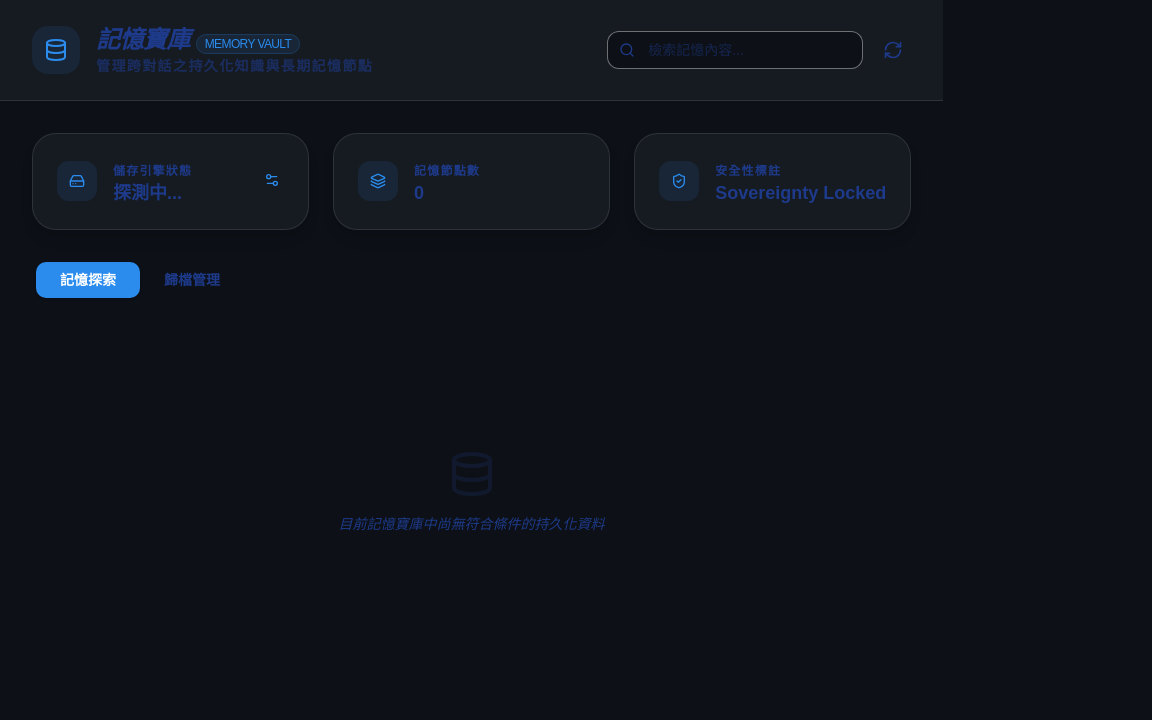
Test case: VaultDashboard 記憶寶庫 › 時間以台北時間正確顯示為 2026（毫秒），而非 1970
// 以搜尋強制展開所有 agent 與記憶項目，讓時間欄位渲染
Type "記憶" into the field with placeholder "檢索記憶內容..." at (735, 50), box [607, 31, 863, 69]
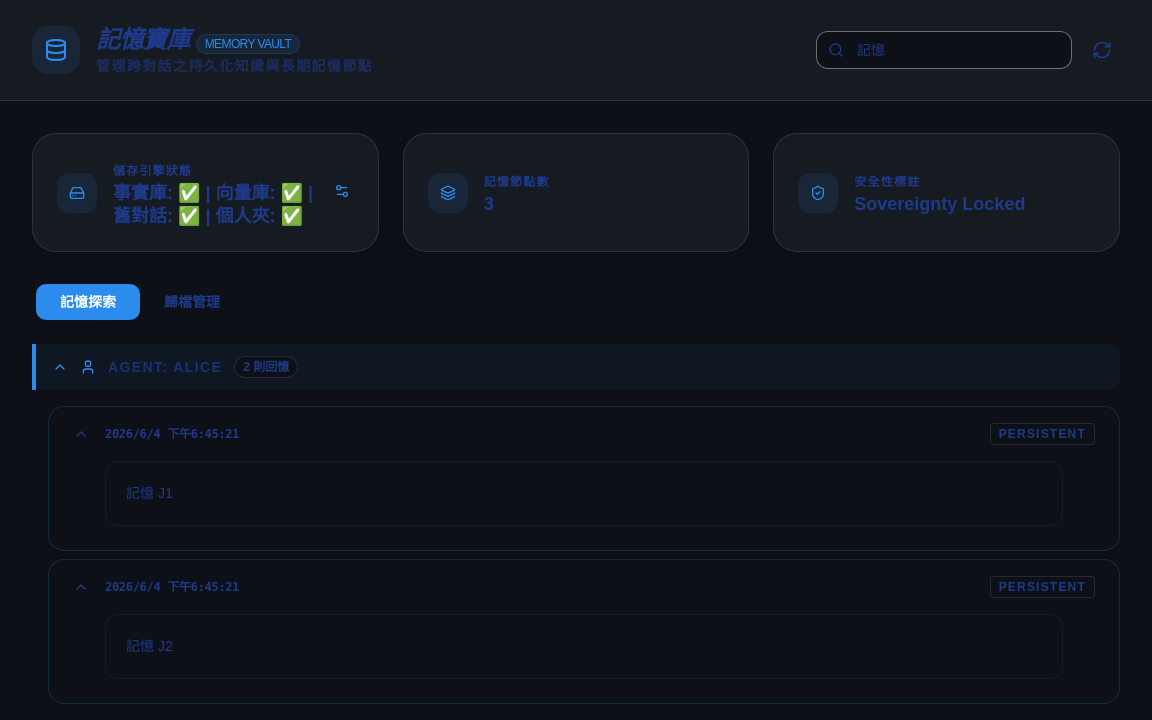
Now the 1st text "2026/6/4 下午6:45:21" is shown, box [105, 426, 239, 442]
